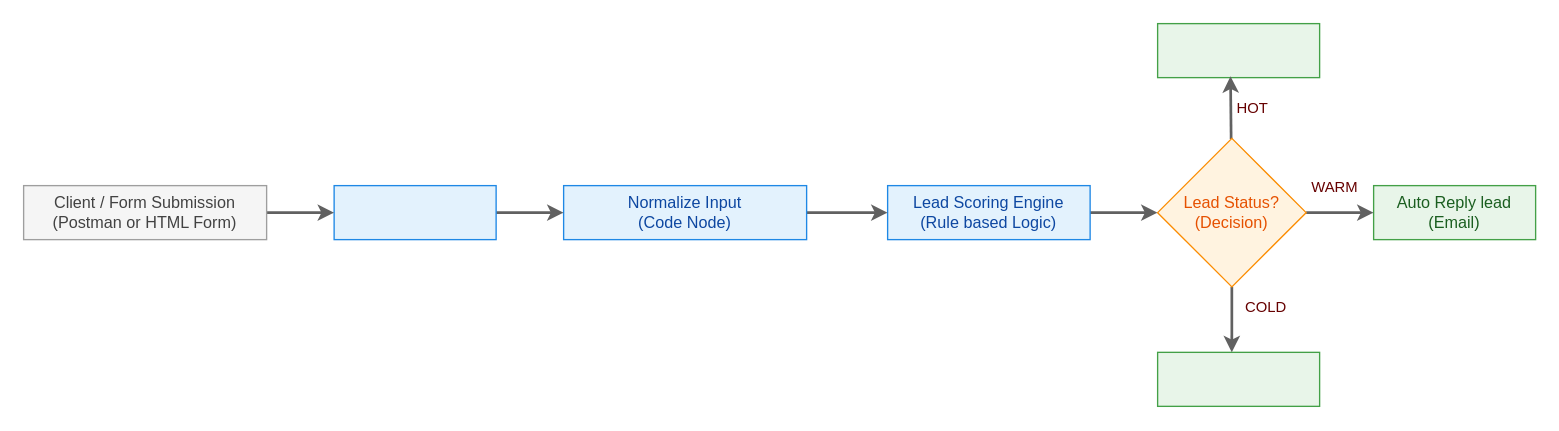
Image size: 1559x431. Some labels were removed from this diagram. Here are the shapes that lost their labels. From the top down, the centre of each, then its label:
pixel 1238 50: Notify Sales (Email)
pixel 414 212: n8n Webhook (POST / lead)
pixel 1238 378: Archive / No Action (Optional)
